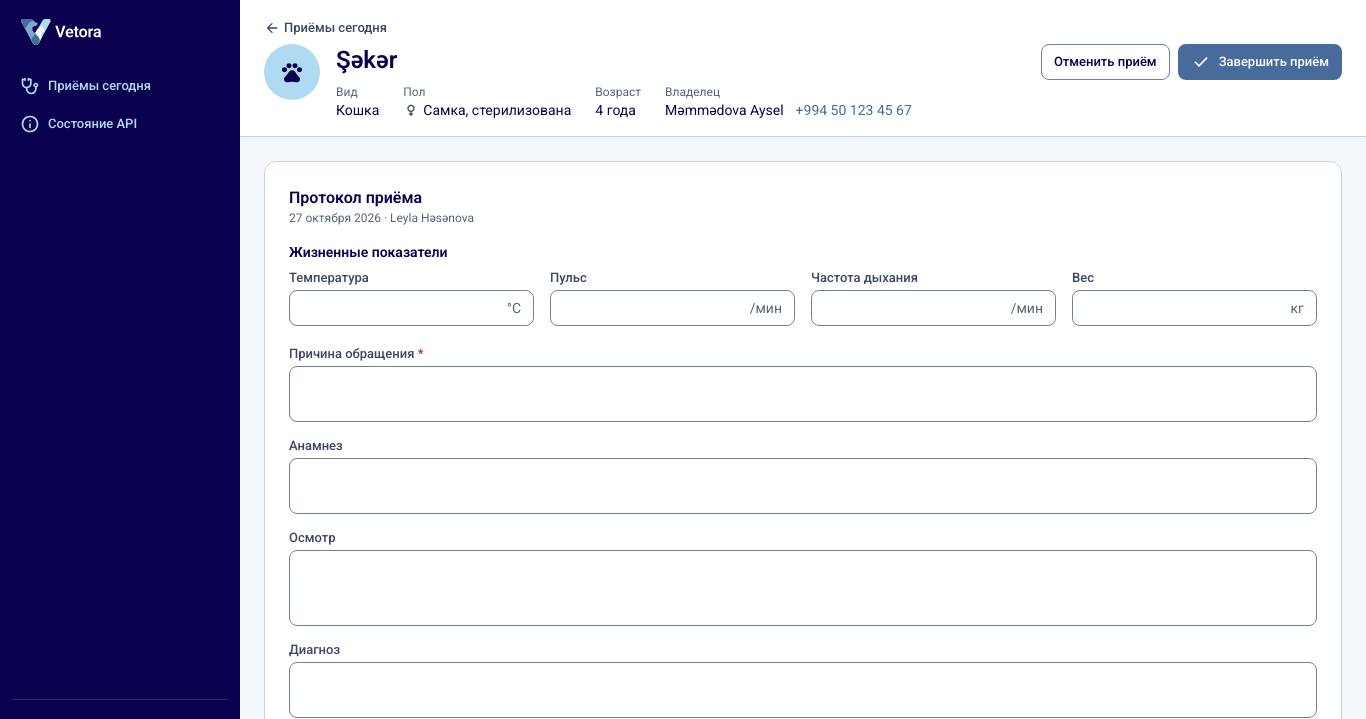
Test: the draft note survives a dropped connection (#24, seam 3) › in ru: with no connection the line says the text is kept, and Complete visit says there is no connection; axe finds no violation
expect the heading "Şəkər" is shown: met, box [336,44,397,76]
Step 1. Type "Limping" into the text box labelled "Причина обращения" → (803, 394), box [290,367,1316,421]
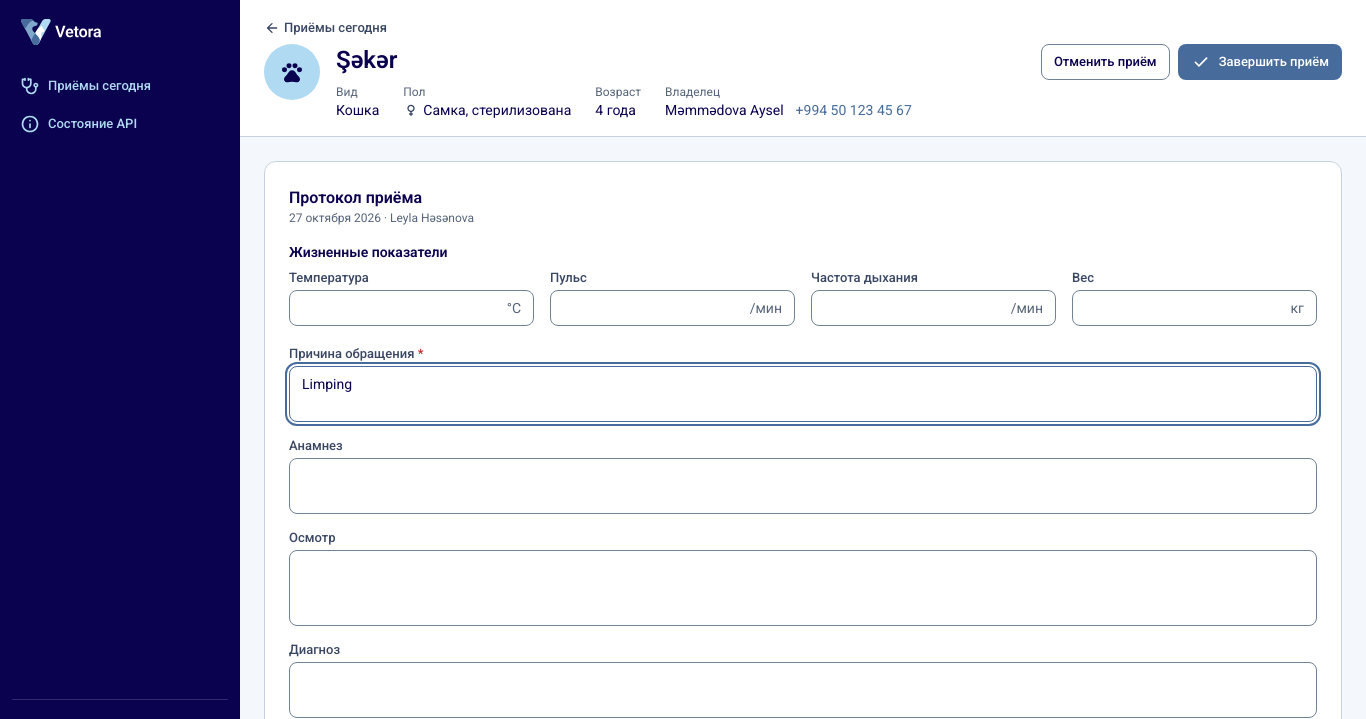
Step 2. Press Tab
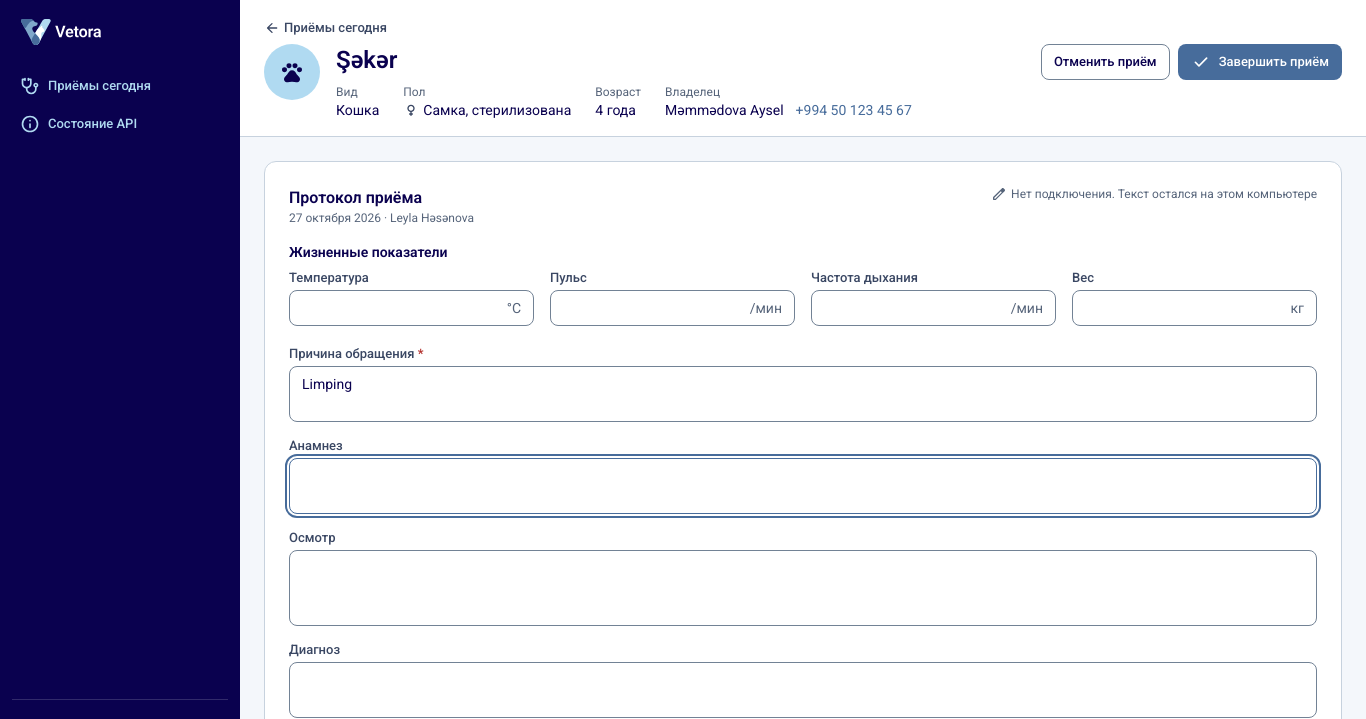
expect the text "Нет подключения. Текст остался на этом компьютере" is shown: met, box [1011,186,1317,202]
Step 3. Click the button "Завершить приём" → (1260, 62), box [1178,44,1342,80]
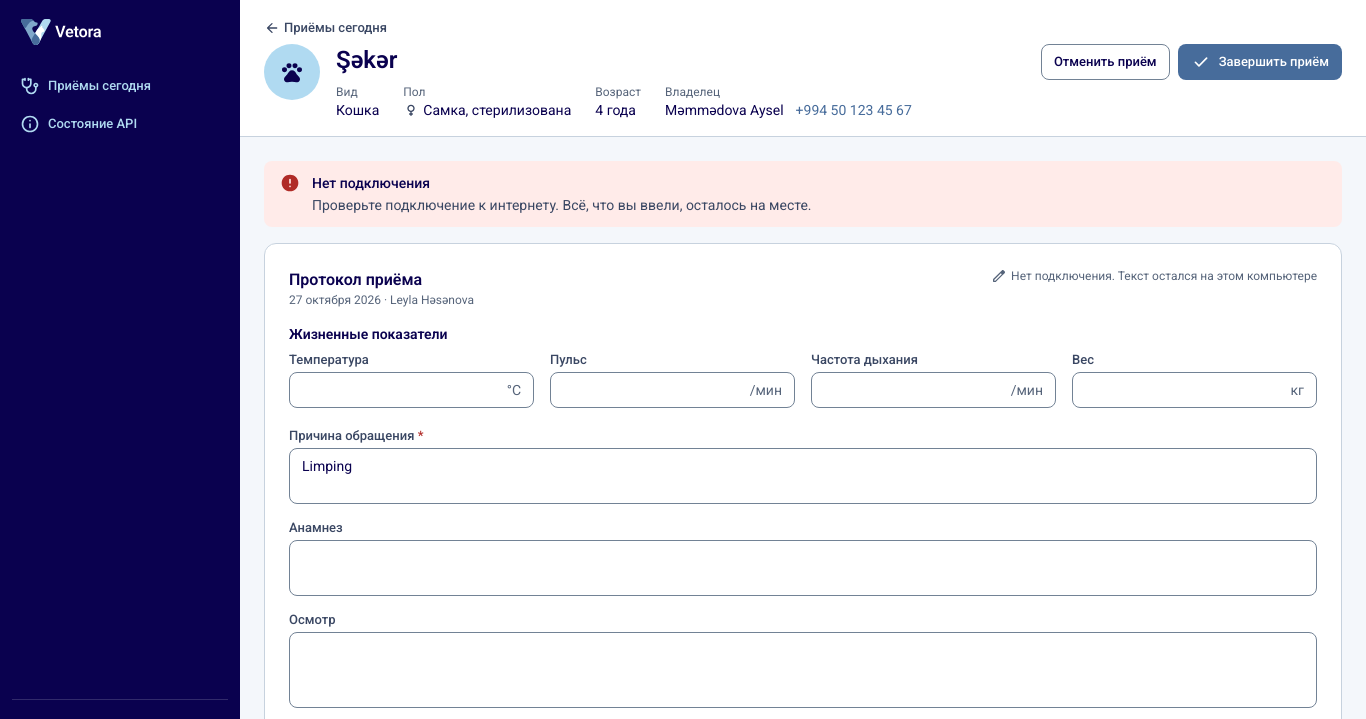
expect the text "Нет подключения" is shown: met, box [312,175,430,191]
